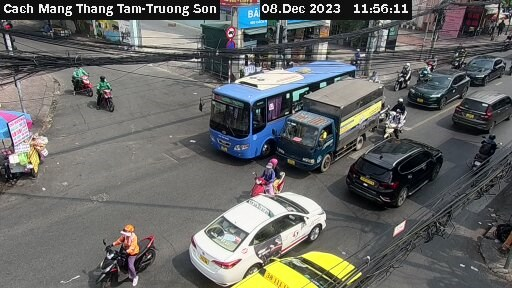bus: (204, 58, 355, 162)
car: (182, 194, 331, 280), (348, 136, 440, 206), (211, 251, 364, 288), (453, 88, 512, 128), (411, 69, 467, 104), (465, 54, 505, 84)
motorbike: (78, 220, 159, 280), (247, 164, 291, 200), (463, 131, 501, 170), (89, 77, 127, 110), (385, 103, 417, 136), (68, 67, 96, 93), (390, 64, 415, 93)
truck: (277, 76, 382, 178)
